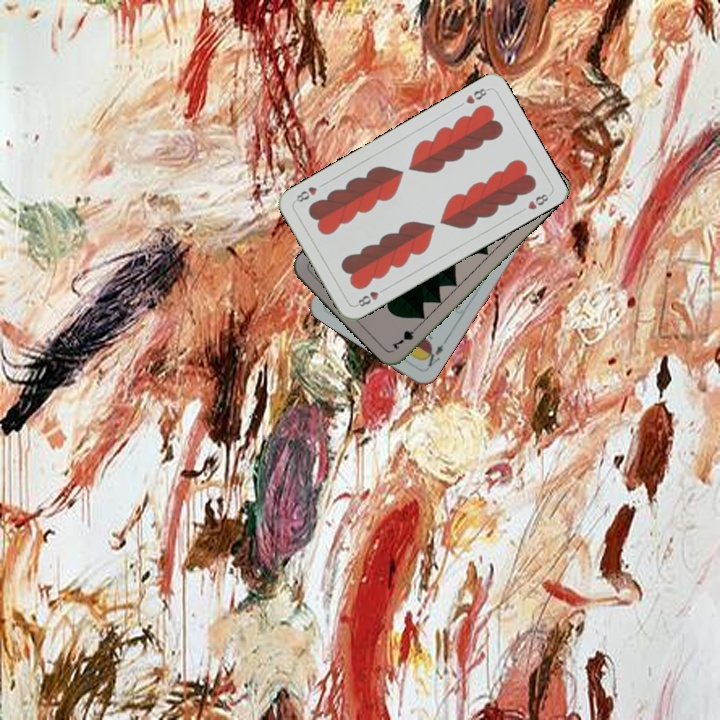EA: (419, 335, 449, 369)
G7: (388, 320, 423, 352)
H8: (352, 284, 389, 309), (462, 84, 491, 107)
